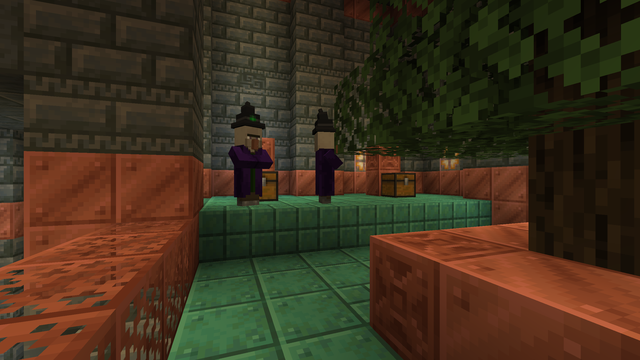sorcieres: (234, 121, 261, 206), (310, 128, 338, 204)
